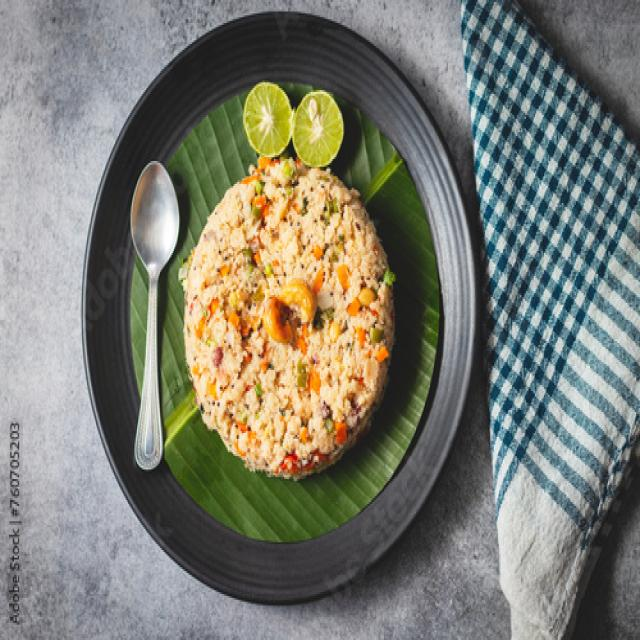UPMA: (184, 159, 393, 475)
